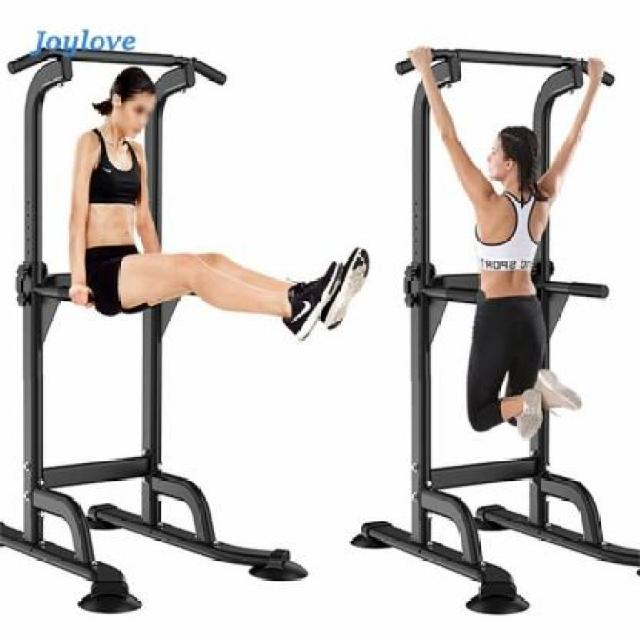chinning dipping: (394, 44, 640, 616)
